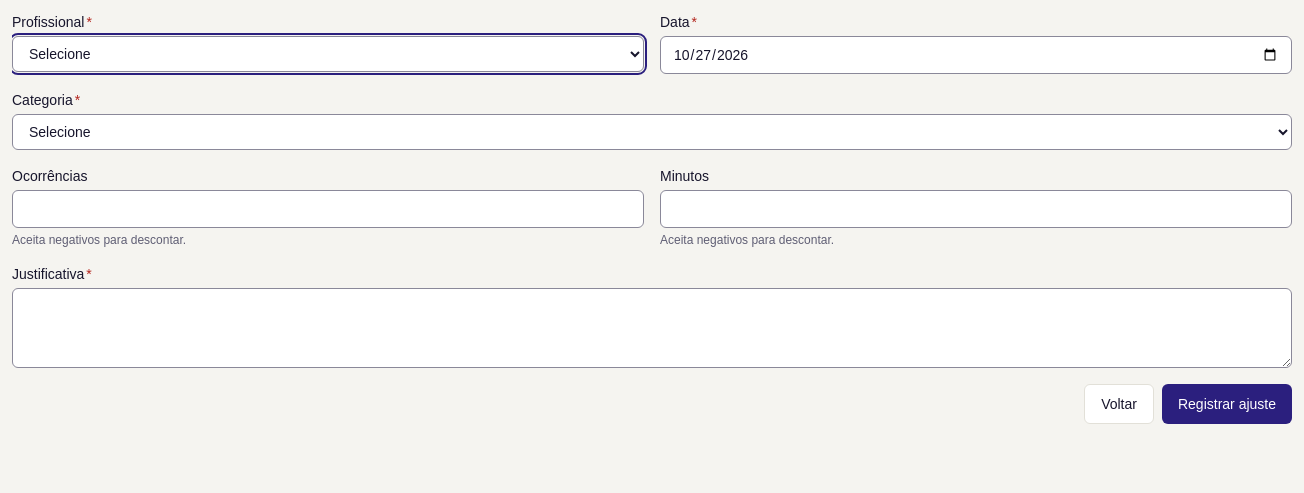
Test: AjusteForm › Ajuste_em_semana_fechada_mostra_o_erro
The image size is (1304, 493).
Select "Ana Souza" in the dropdown labelled "Profissional*" at (328,54), box [12,36,644,72]
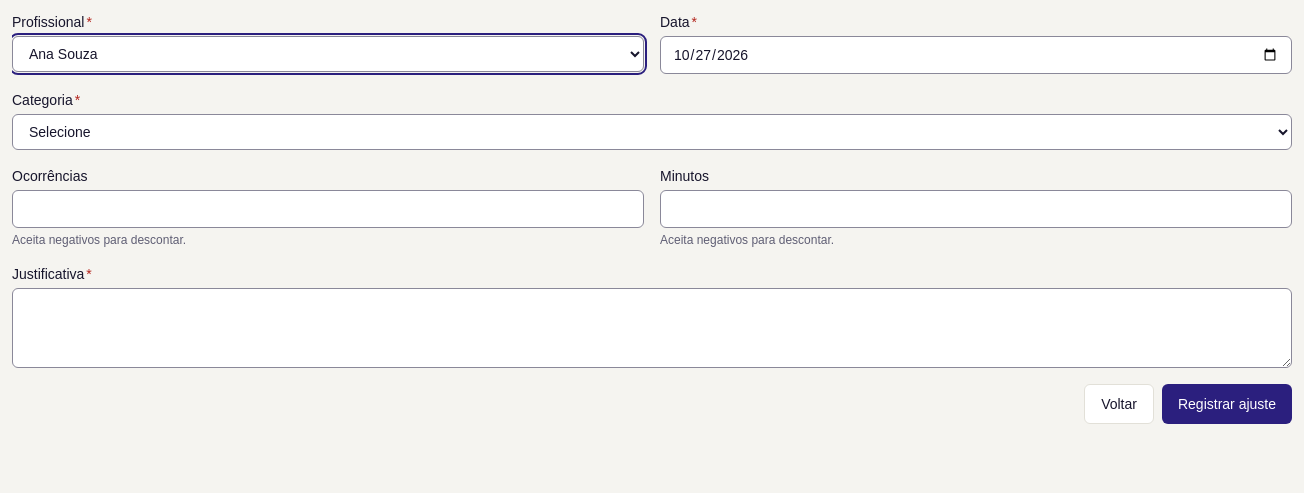
Select "Reuniões de equipe" in the dropdown labelled "Categoria*" at (652,132), box [12,114,1292,150]
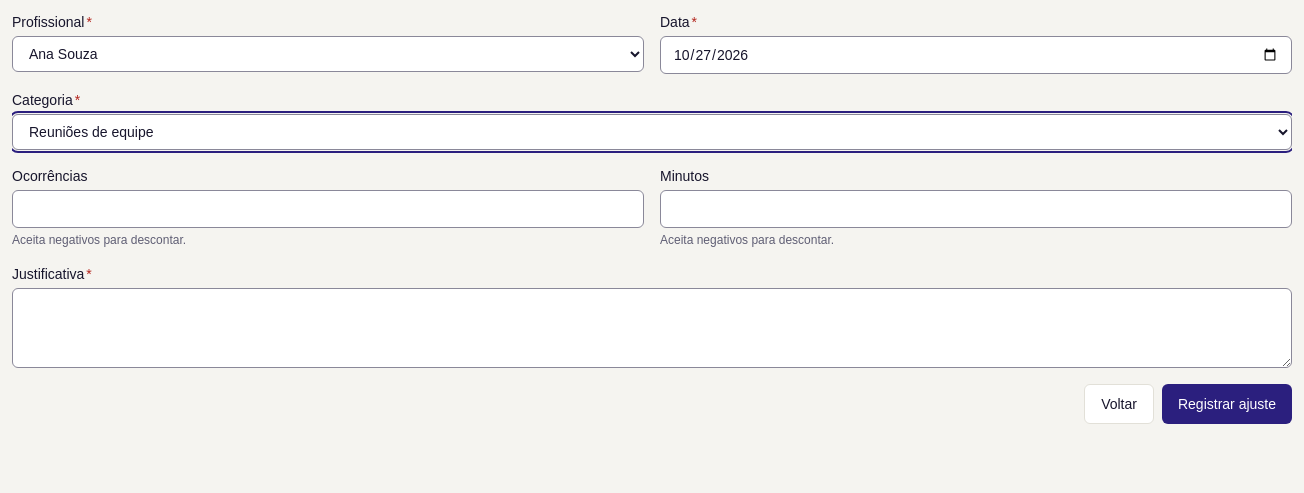
Type "2" into the number field labelled "Ocorrências" at (328,209), box [12,190,644,228]
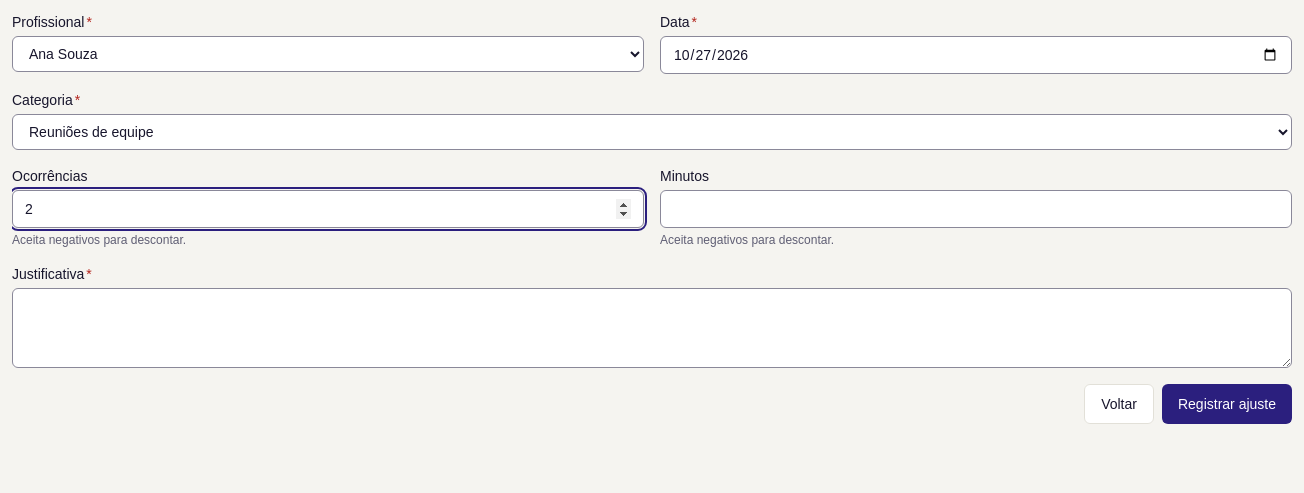
Type "Reunião não lançada" into the text box labelled "Justificativa*" at (652,328), box [12,288,1292,368]
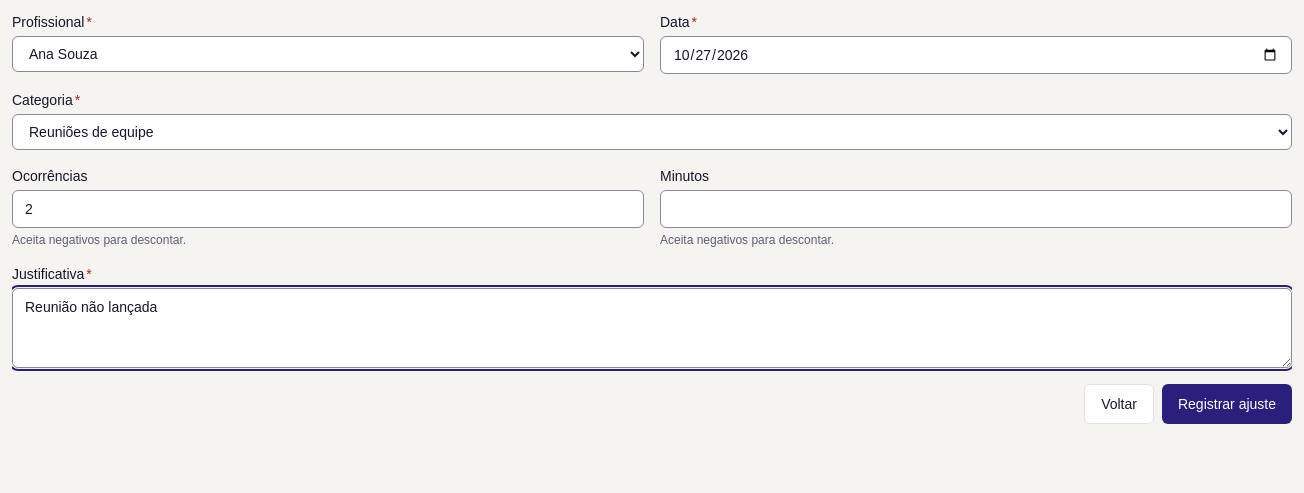
Click the button "Registrar ajuste" at (1227,404), box [1162,384,1292,424]
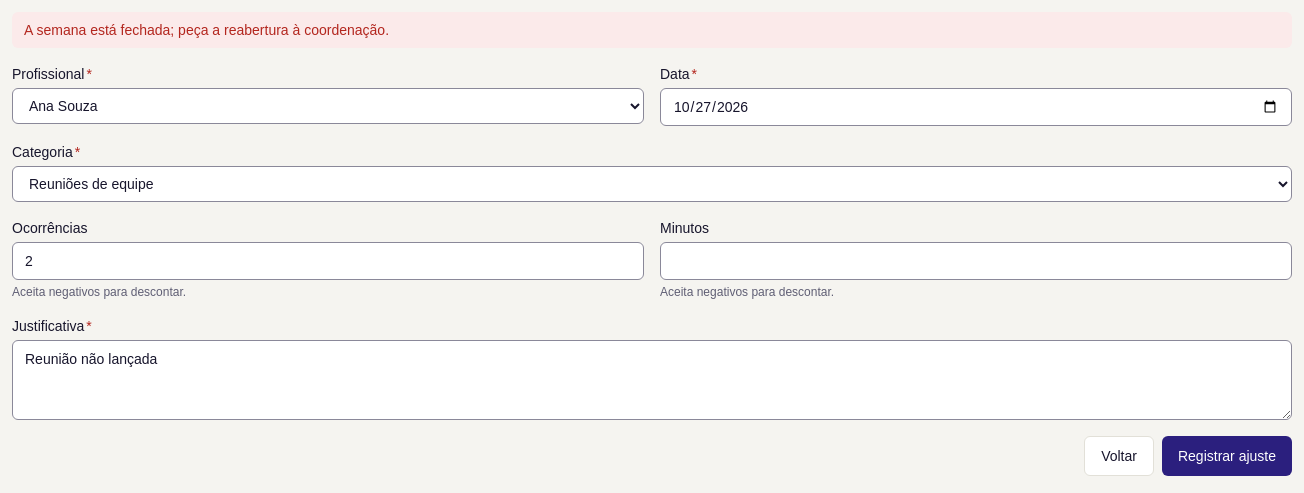
Check: the message reads "A semana está fechada; peça a reabertura à coordenação.", box [24,22,389,38]
